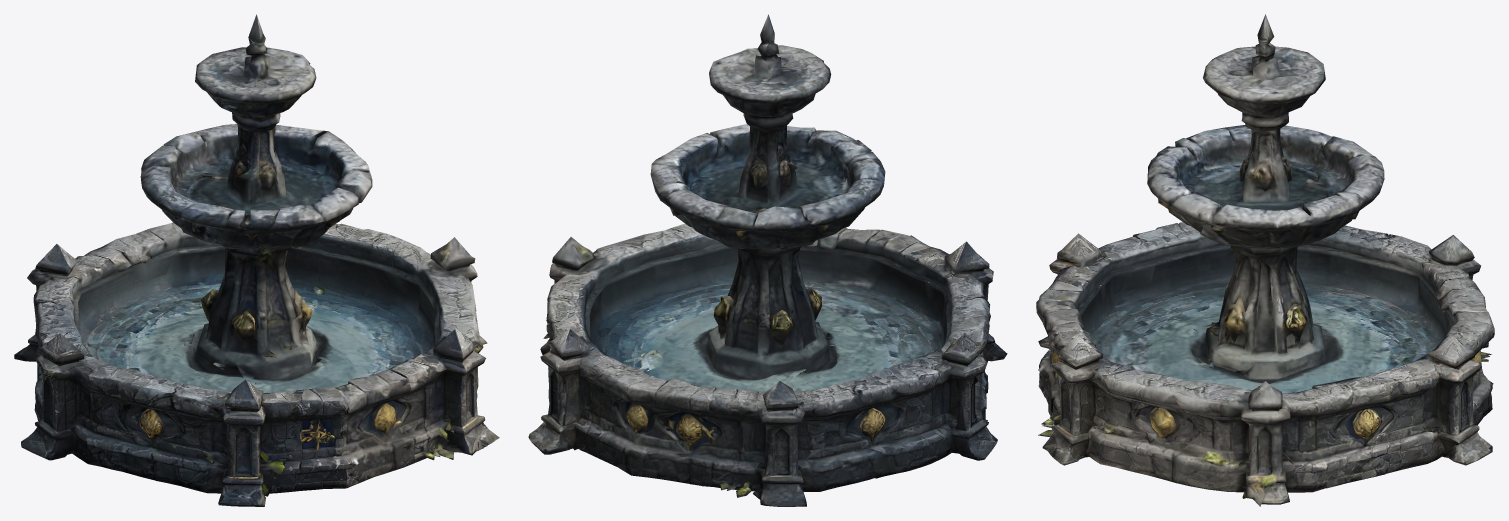
File: MedievalFountain.glb
The picture shows the model from 3 angles, left to right: view 1: azimuth 30°, elevation 25°; view 2: azimuth 150°, elevation 25°; view 3: azimuth 270°, elevation 25°; orthographic projection.
Visible parts, largest first — view 1: tripo_node_4022486b-af61-4143-bbfc-1bd84b5ed29d; view 2: tripo_node_4022486b-af61-4143-bbfc-1bd84b5ed29d; view 3: tripo_node_4022486b-af61-4143-bbfc-1bd84b5ed29d.
Boxes of the visible parts, x1,y1,x2,y2 form: tripo_node_4022486b-af61-4143-bbfc-1bd84b5ed29d: (14, 14, 499, 506); tripo_node_4022486b-af61-4143-bbfc-1bd84b5ed29d: (528, 14, 1007, 506); tripo_node_4022486b-af61-4143-bbfc-1bd84b5ed29d: (1036, 14, 1494, 506).
Bounding box in the file's own units: 0.9823 × 0.7976 × 0.8598.
1 material, 1 textured.
